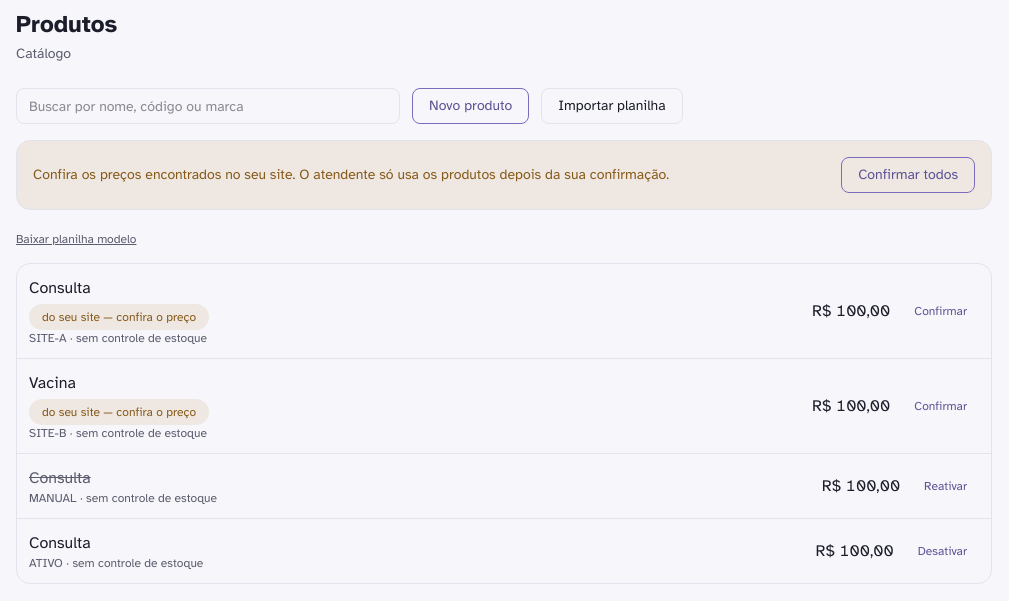
Test case: conferência dos preços encontrados no site › busca vazia não mente que a organização não tem catálogo
Type "não existe" into the field with test id "busca-produto".
click(208, 106); type("não existe")  # box left=16, top=88, right=400, bottom=124
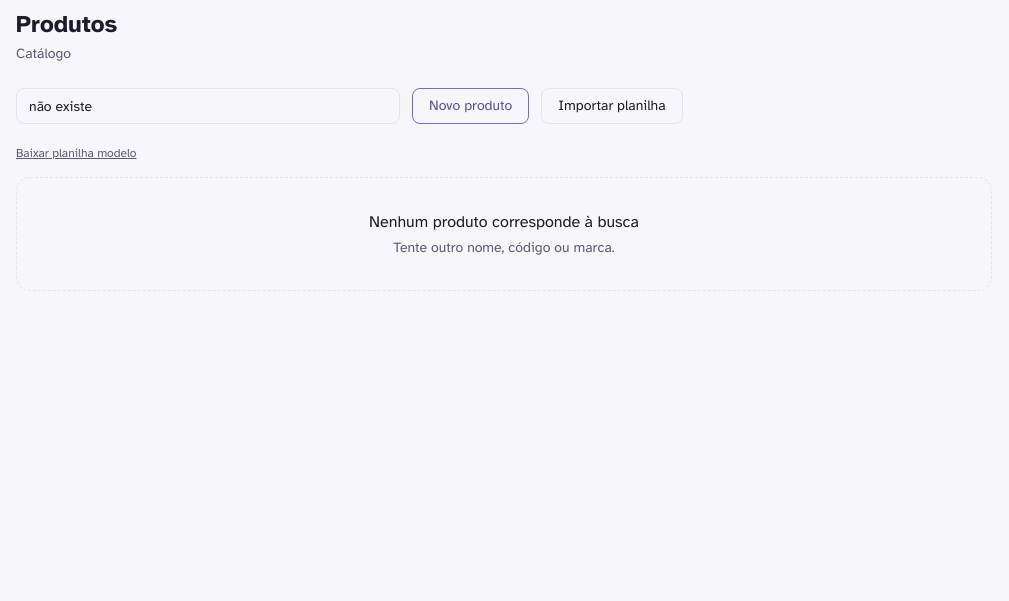
Expected: the text "Nenhum produto corresponde à busca" is shown, left=369, top=212, right=639, bottom=232
Expected: the element with test id "conferencia-produtos-site" is gone
